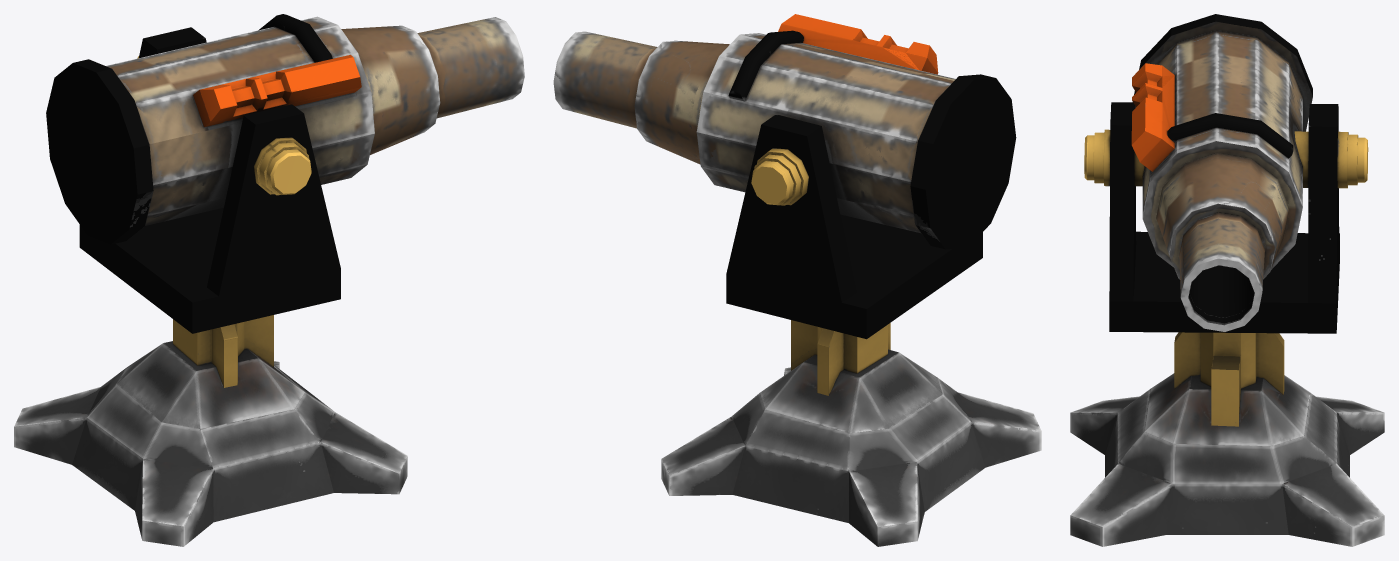
Rendered from Turret.Obj.
3 renders of one model, left to right at view 1: azimuth 30°, elevation 25°; view 2: azimuth 150°, elevation 25°; view 3: azimuth 270°, elevation 25°, orthographic. The views are drawn at different scales.
Parts seen in each view (by area): view 1: polySurface19; view 2: polySurface19; view 3: polySurface19.
Boxes of the visible parts, x1,y1,x2,y2 form: polySurface19: (14, 14, 524, 546); polySurface19: (553, 14, 1041, 546); polySurface19: (1070, 14, 1384, 546).
Bounding box in the file's own units: 14.51 × 13.86 × 9.57.
